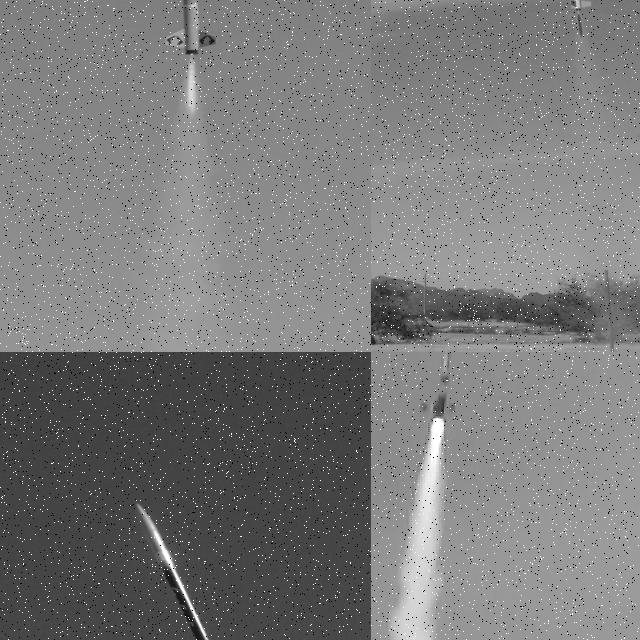Rocket: (133, 501, 249, 640), (163, 0, 219, 56), (418, 352, 462, 418)
